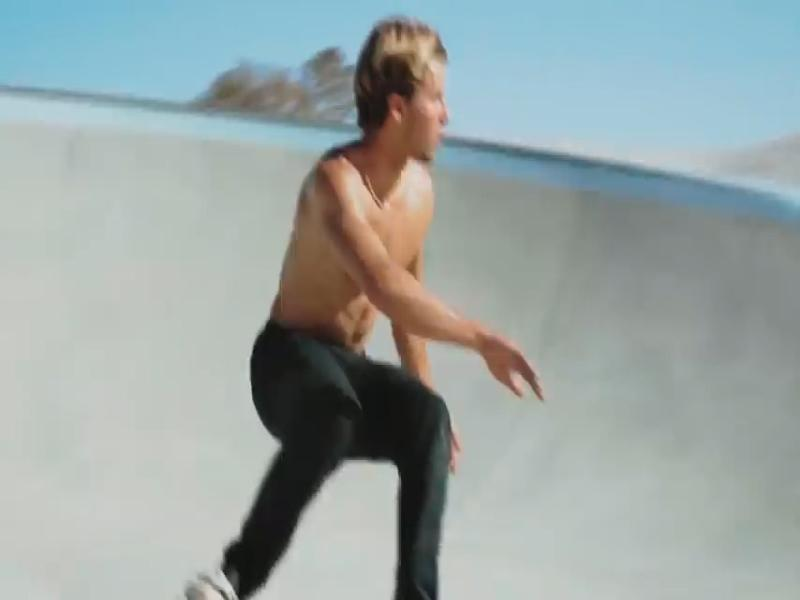person: (186, 19, 542, 600)
